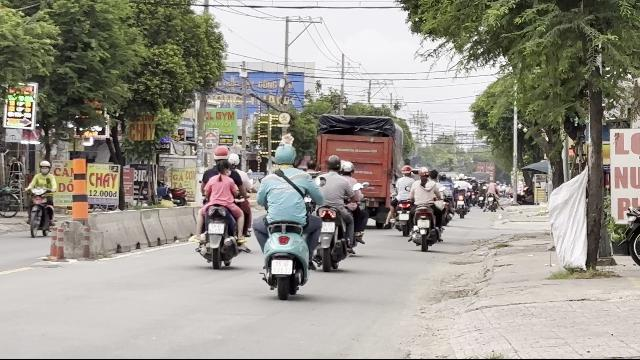helmet: (273, 144, 297, 168), (212, 145, 230, 163), (326, 154, 340, 172), (228, 153, 240, 167)
licenseplate: (272, 260, 292, 274), (208, 222, 224, 233), (321, 222, 334, 232)
motorcyclist: (252, 142, 321, 298), (192, 144, 252, 268), (315, 154, 365, 270)
nohelmet: (215, 161, 233, 179)
